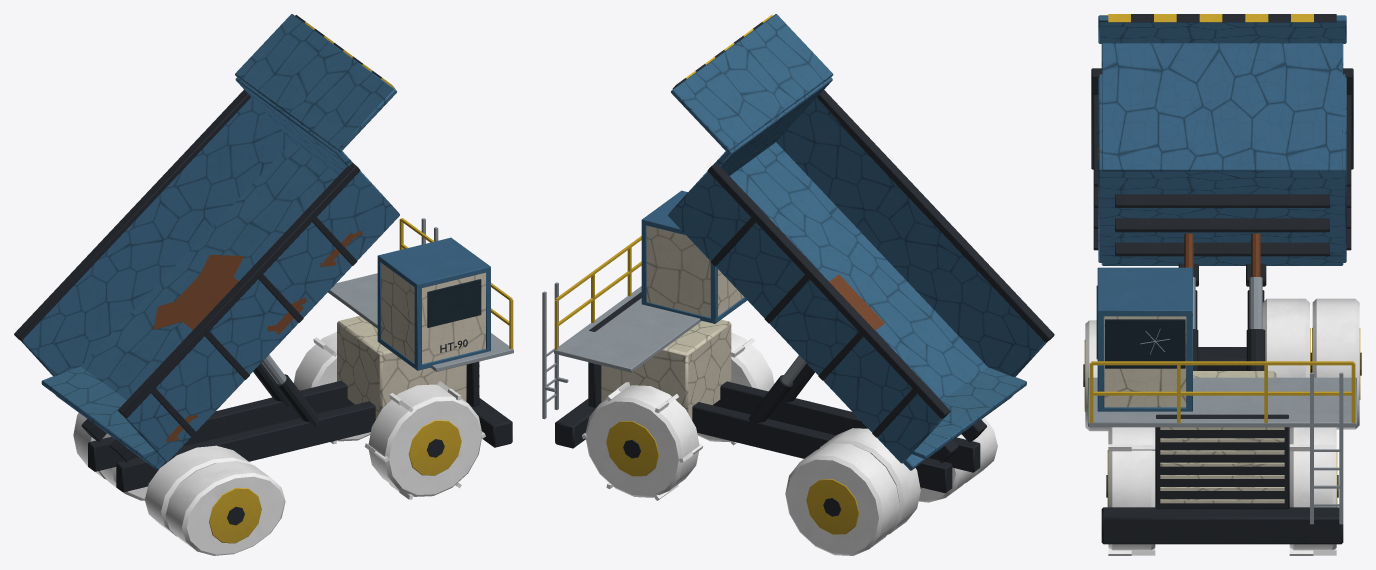
The model's file is dump_truck_wreck.glb.
3 renders of one model, left to right at view 1: azimuth 30°, elevation 25°; view 2: azimuth 150°, elevation 25°; view 3: azimuth 270°, elevation 25°, orthographic. The views are drawn at different scales.
Parts seen in each view (by area): view 1: dump_truck_wreck; view 2: dump_truck_wreck; view 3: dump_truck_wreck.
Part boxes in pixels (x1,y1,x2,y2): dump_truck_wreck: [14, 14, 513, 555]; dump_truck_wreck: [542, 14, 1054, 555]; dump_truck_wreck: [1083, 14, 1361, 555].
Size of the model in its own units: 8.35 by 8.31 by 4.14.
Materials: 16 (16 with a texture image).
